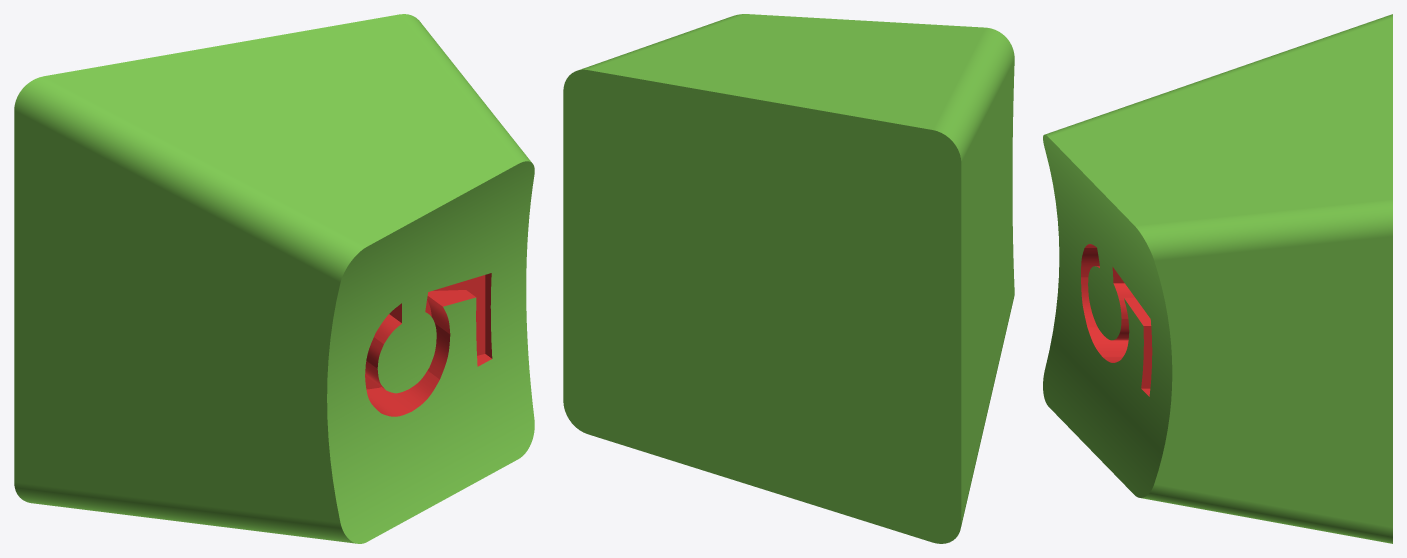
File: Key5.fbx
3 renders of one model, left to right at view 1: azimuth 30°, elevation 25°; view 2: azimuth 150°, elevation 25°; view 3: azimuth 270°, elevation 25°, orthographic. The views are drawn at different scales.
Visible parts, largest first — view 1: Key5 v3; view 2: Key5 v3; view 3: Key5 v3.
Part boxes in pixels (<box>): Key5 v3: <box>14,14,534,543</box>; Key5 v3: <box>563,14,1014,543</box>; Key5 v3: <box>1043,14,1392,543</box>.
Size of the model in its own units: 1500 by 1486 by 1213.
